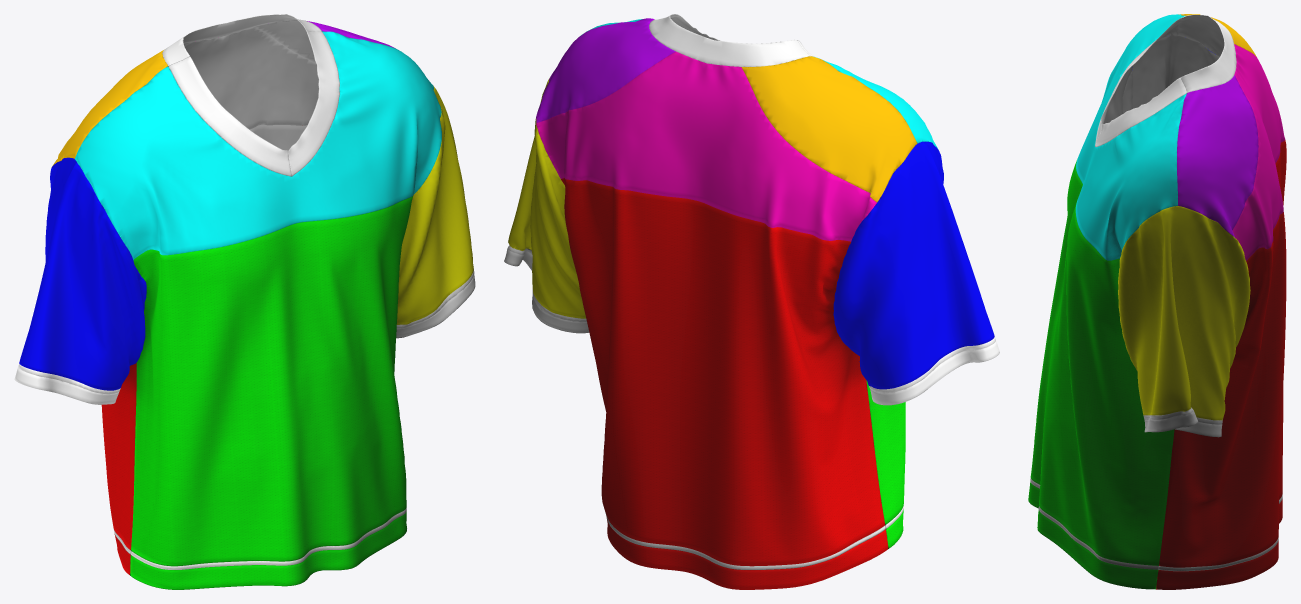
The model's file is FootballJersey.glb.
3 renders of one model, left to right at view 1: azimuth 30°, elevation 25°; view 2: azimuth 150°, elevation 25°; view 3: azimuth 270°, elevation 25°, orthographic. The views are drawn at different scales.
Parts seen in each view (by area): view 1: 03FootballJersey; view 2: 03FootballJersey; view 3: 03FootballJersey.
Boxes of the visible parts, box(x1,y1,x2,y2) form: 03FootballJersey: box(14, 14, 475, 589); 03FootballJersey: box(504, 14, 999, 589); 03FootballJersey: box(1028, 14, 1286, 589).
Size of the model in its own units: 0.6119 by 0.6397 by 0.3011.
1 material, 1 textured.
